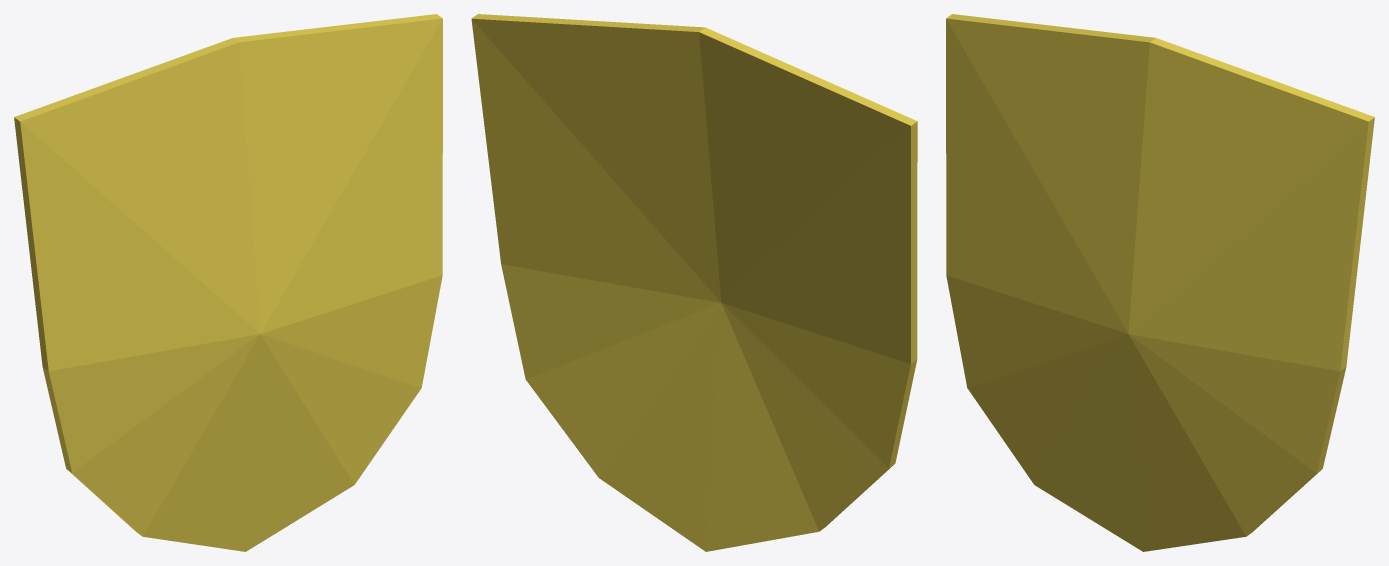
Rendered from shield.fbx.
3 views of the same model, side by side, from view 1: azimuth 30°, elevation 25°; view 2: azimuth 150°, elevation 25°; view 3: azimuth 330°, elevation 25° (orthographic). The views are drawn at different scales.
Visible parts, largest first — view 1: shield; view 2: shield; view 3: shield.
Part boxes in pixels (bbox=[...]): shield: bbox=[14, 14, 442, 551]; shield: bbox=[471, 14, 917, 551]; shield: bbox=[946, 14, 1374, 551].
Size of the model in its own units: 1.24 by 1.42 by 0.1782.
